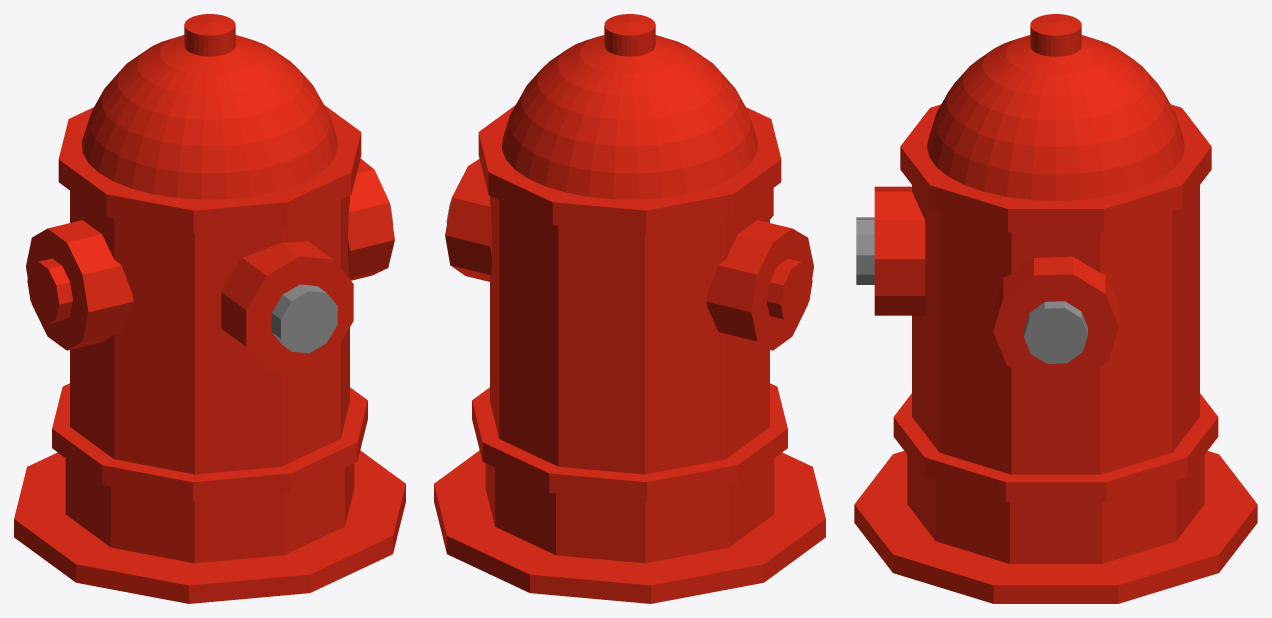
The model's file is FireHydrant.fbx.
3 views of the same model, side by side, from view 1: azimuth 30°, elevation 25°; view 2: azimuth 150°, elevation 25°; view 3: azimuth 270°, elevation 25° (orthographic).
Visible parts, largest first — view 1: Cube, Circle.001, Circle.002, Circle.003; view 2: Cube, Circle.002, Circle.003; view 3: Cube, Circle.003, Circle.001.
Boxes of the visible parts, x1,y1,x2,y2 form: Cube: (14,14,405,603); Circle.001: (221,241,353,374); Circle.002: (26,220,133,350); Circle.003: (348,158,394,280); Cube: (434,14,825,603); Circle.002: (706,220,813,350); Circle.003: (445,159,491,281); Cube: (854,14,1257,603); Circle.003: (993,256,1118,384); Circle.001: (856,186,925,315).
Size of the model in its own units: 193 by 274 by 200.
